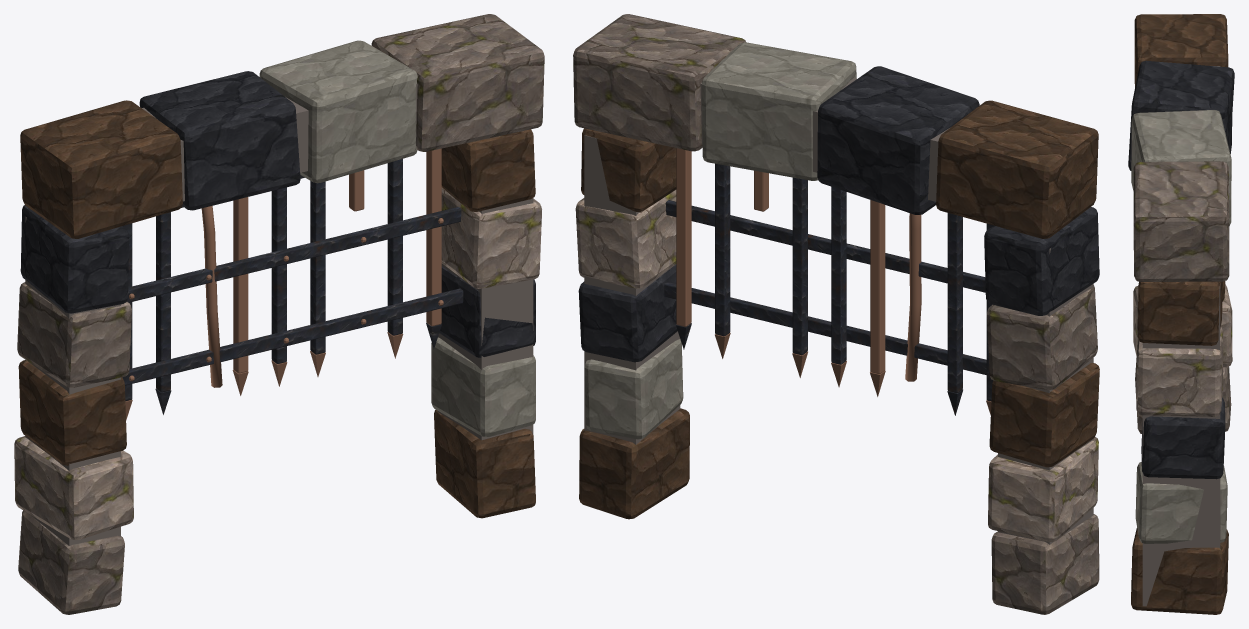
The model's file is portcullis_rusted.glb.
3 renders of one model, left to right at view 1: azimuth 30°, elevation 25°; view 2: azimuth 150°, elevation 25°; view 3: azimuth 270°, elevation 25°, orthographic. The views are drawn at different scales.
Visible parts, largest first — view 1: model; view 2: model; view 3: model.
Boxes of the visible parts, x1=… form: model: x1=14, y1=14, x2=544, y2=614; model: x1=573, y1=14, x2=1099, y2=614; model: x1=1128, y1=14, x2=1234, y2=614.
Bounding box in the file's own units: 2.35 × 2.16 × 0.5081.
Materials: 8 (6 with a texture image).
